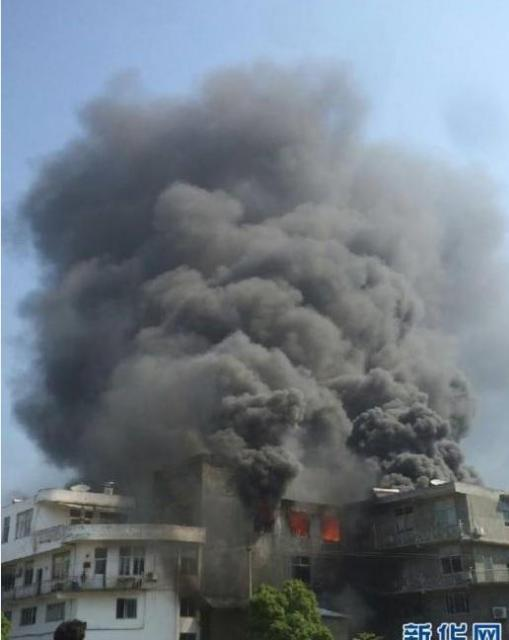smoke: (40, 218, 471, 378), (57, 86, 414, 210), (30, 386, 201, 478), (214, 388, 301, 514), (344, 386, 461, 470)
